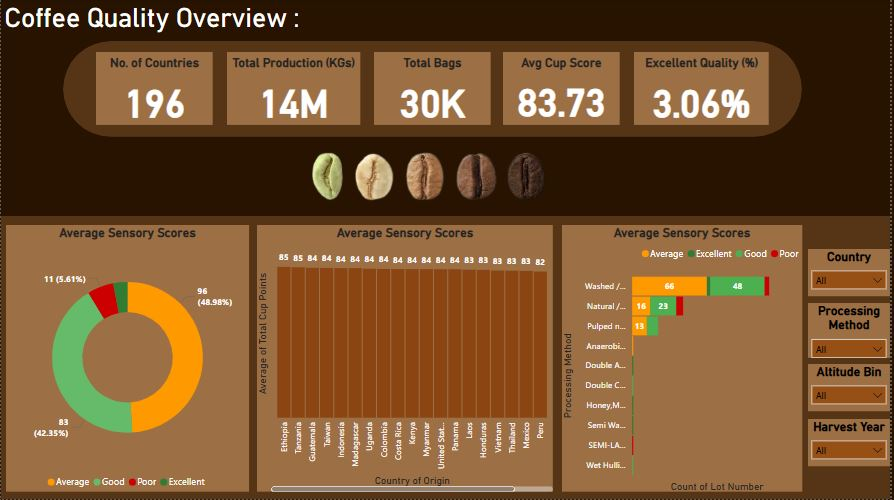

The page's visual inventory and layout, read from the dashboard file:
{"tool":"powerbi","page":{"name":"Overview Dashboard","canvas":[1280,720],"ordinal":0},"visuals":[{"type":"shape","box":[0,312.5,1280.2,407.5],"z":0},{"type":"shape","box":[89.3,60.5,1064.2,138.2],"z":1000},{"type":"card","title":"Avg Cup Score","fields":{"Values":["Avg(df_arabica_clean.Total Cup Points)"]},"box":[722.9,76.3,168.5,105.1],"z":2000},{"type":"clusteredColumnChart","title":"Average Sensory Scores","fields":{"Category":["df_arabica_clean.Country of Origin"],"Y":["Avg(df_arabica_clean.Total Cup Points)"]},"box":[368.6,325.4,426.2,384.5],"z":3000},{"type":"card","title":"Total Production (KGs)","fields":{"Values":["Sum(df_arabica_clean.Production(In KGs))"]},"box":[325.4,76.3,191.5,105.1],"z":4000},{"type":"card","title":"No. of Countries","fields":{"Values":["CountNonNull(df_arabica_clean.Country of Origin)"]},"box":[136.8,76.3,168.5,105.1],"z":5000},{"type":"card","title":"Excellent Quality (%)","fields":{"Values":["df_arabica_clean.% Excellent Quality"]},"box":[911.5,76.3,194.4,105.1],"z":6000},{"type":"donutChart","title":"Average Sensory Scores","fields":{"Category":["df_arabica_clean.Quality Tier"],"Y":["CountNonNull(df_arabica_clean.Quality Tier)"]},"box":[7.2,325.4,349.9,384.5],"z":7000},{"type":"card","title":"Total Bags","fields":{"Values":["Sum(df_arabica_clean.Number of Bags)"]},"box":[537.1,76.3,168.5,105.1],"z":8000},{"type":"barChart","title":"Average Sensory Scores","fields":{"Category":["df_arabica_clean.Processing Method"],"Y":["CountNonNull(df_arabica_clean.Lot Number)"],"Series":["df_arabica_clean.Quality Tier"]},"box":[807.8,325.4,345.6,384.5],"z":9000},{"type":"slicer","title":"Processing Method","fields":{"Values":["df_arabica_clean.Processing Method"]},"box":[1162.1,437.8,118.1,79.2],"z":10000},{"type":"image","box":[240.5,185.8,751.7,138.2],"z":11000},{"type":"slicer","title":"Country","fields":{"Values":["df_arabica_clean.Country of Origin"]},"box":[1162.1,360,118.1,67.7],"z":12000},{"type":"slicer","title":"Altitude Bin","fields":{"Values":["df_arabica_clean.Altitude Bin"]},"box":[1161.9,525.6,118.1,67.7],"z":13000},{"type":"textbox","title":"Coffee Quality Overview :","box":[0,4.3,495.4,46.1],"z":14000},{"type":"slicer","title":"Harvest Year","fields":{"Values":["df_arabica_clean.Harvest Year"]},"box":[1161.9,604.8,118.1,67.7],"z":15000}]}

Visuals, with their boxes in screenshot pixels (x1, y1, x2, y2), scaled from the page's 1280x720 canvas onto the 894x500 screenshot:
shape: x1=0 y1=217 x2=893 y2=499
shape: x1=62 y1=42 x2=806 y2=138
"Avg Cup Score" card: x1=505 y1=53 x2=623 y2=126
"Average Sensory Scores" clusteredColumnChart: x1=257 y1=226 x2=555 y2=493
"Total Production (KGs)" card: x1=227 y1=53 x2=361 y2=126
"No. of Countries" card: x1=96 y1=53 x2=213 y2=126
"Excellent Quality (%)" card: x1=637 y1=53 x2=772 y2=126
"Average Sensory Scores" donutChart: x1=5 y1=226 x2=249 y2=493
"Total Bags" card: x1=375 y1=53 x2=493 y2=126
"Average Sensory Scores" barChart: x1=564 y1=226 x2=806 y2=493
"Processing Method" slicer: x1=812 y1=304 x2=893 y2=359
image: x1=168 y1=129 x2=693 y2=225
"Country" slicer: x1=812 y1=250 x2=893 y2=297
"Altitude Bin" slicer: x1=812 y1=365 x2=893 y2=412
"Coffee Quality Overview :" textbox: x1=0 y1=3 x2=346 y2=35
"Harvest Year" slicer: x1=812 y1=420 x2=893 y2=467
